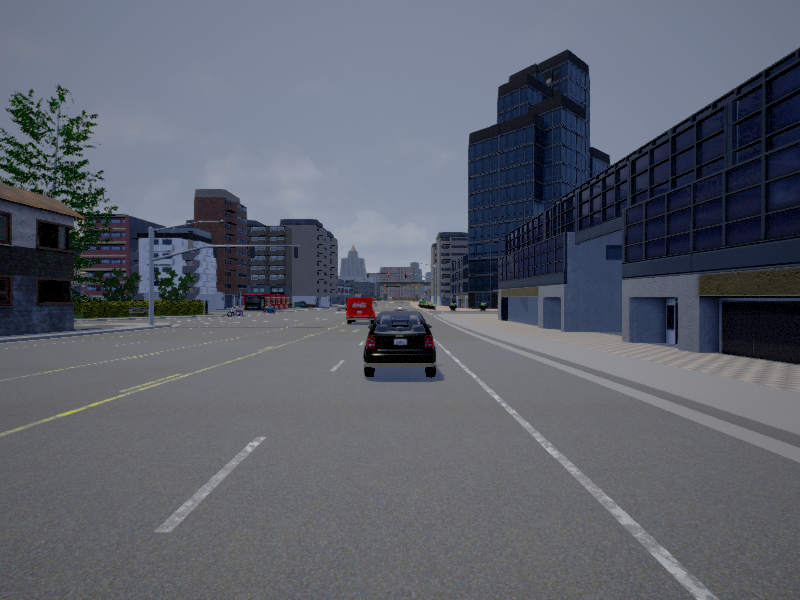Benign: (364, 311, 437, 379), (345, 296, 374, 321)
